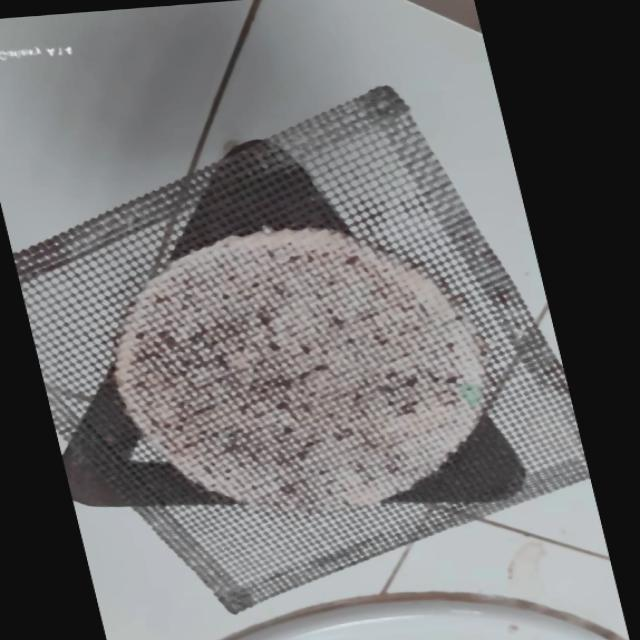Stand: (4, 116, 578, 555)
